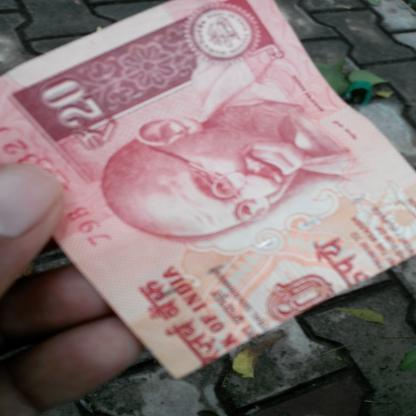Old20Front: (0, 0, 416, 380)
